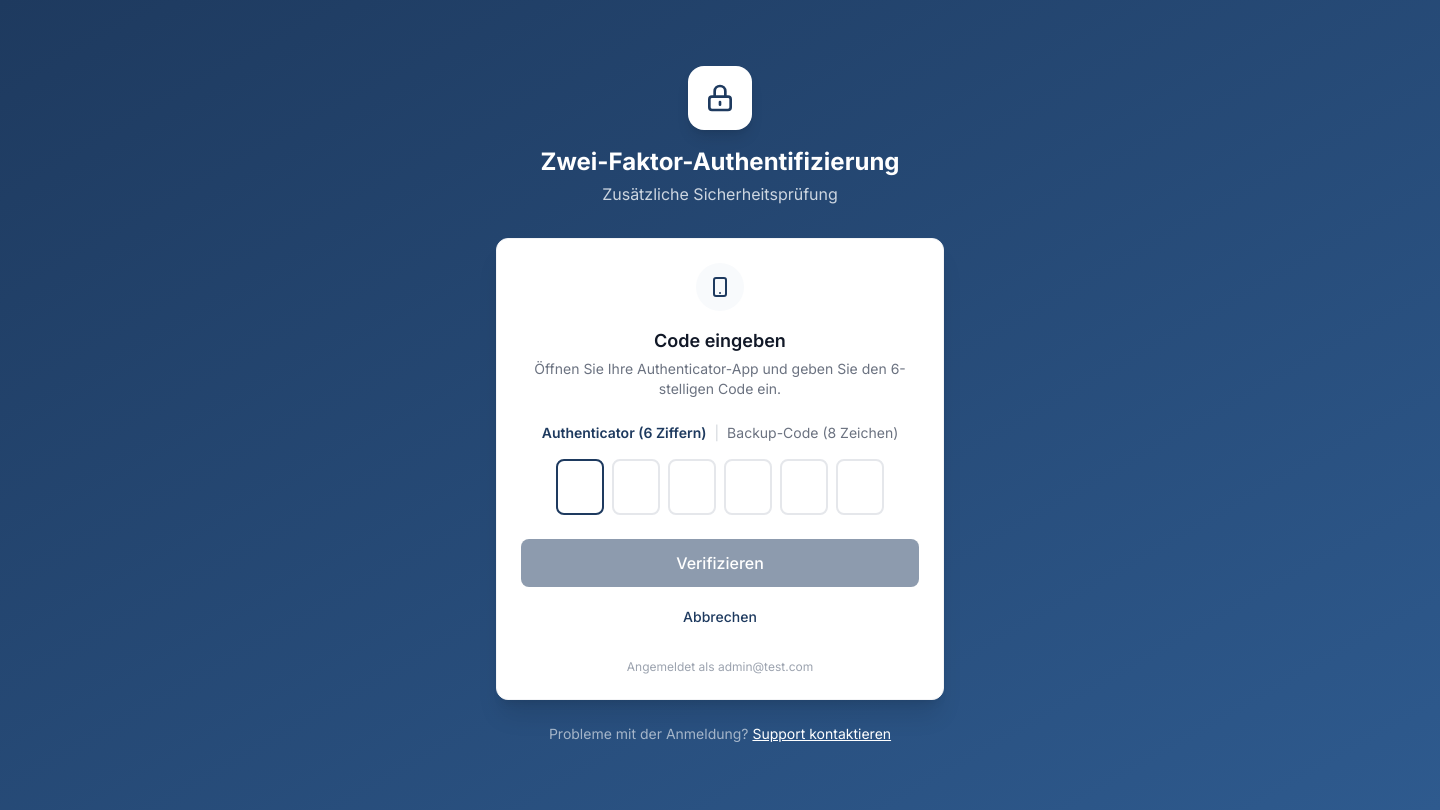
Test: TwoFactorVerify › handles paste of full code
# Simulate paste by setting value directly
Type "123456" into the 1st field. click: {"x": 580, "y": 487}
box: [556,459,604,515]
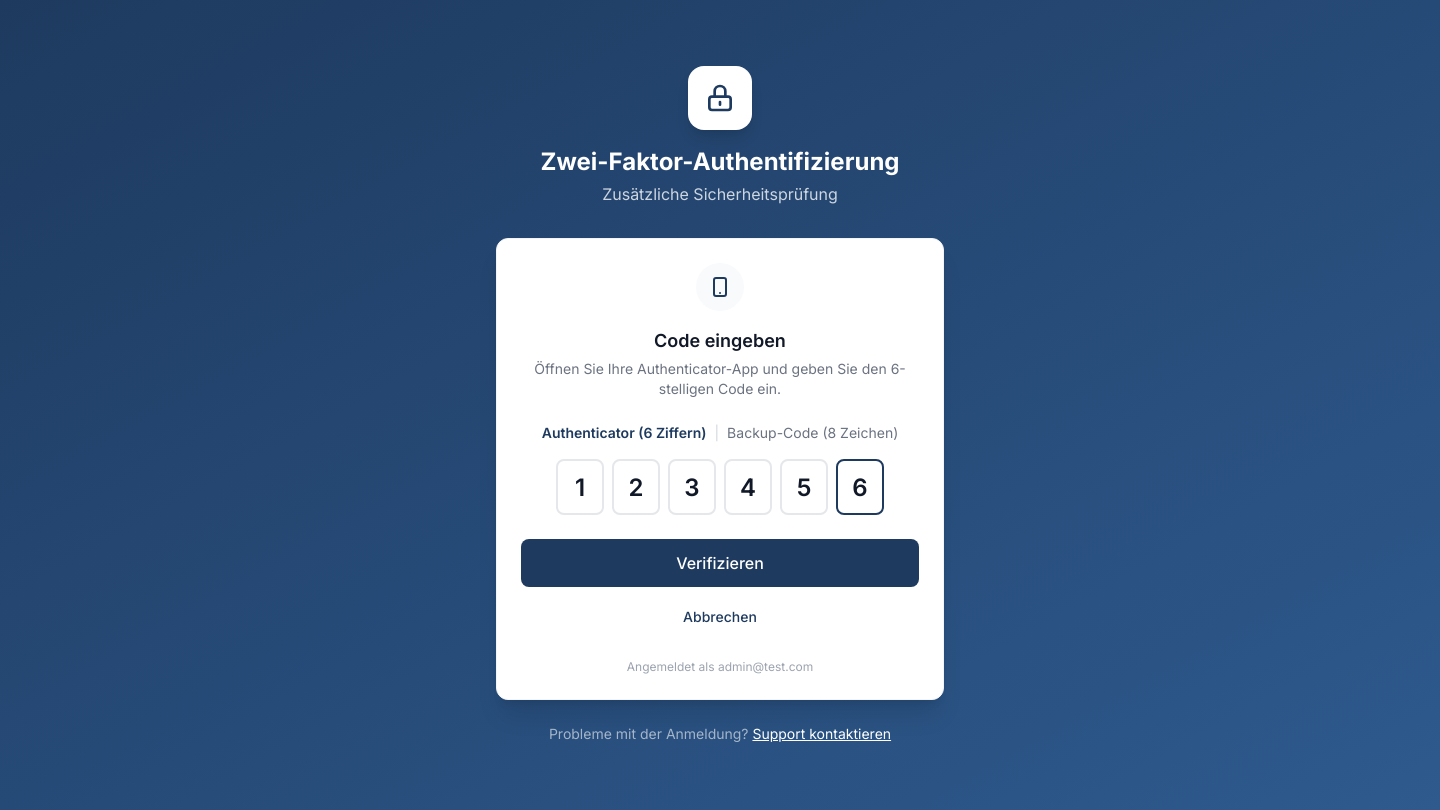
expect the 1st field holds "1": met, box [556,459,604,515]
expect the 2nd field holds "2": met, box [612,459,660,515]
expect the 3rd field holds "3": met, box [668,459,716,515]
